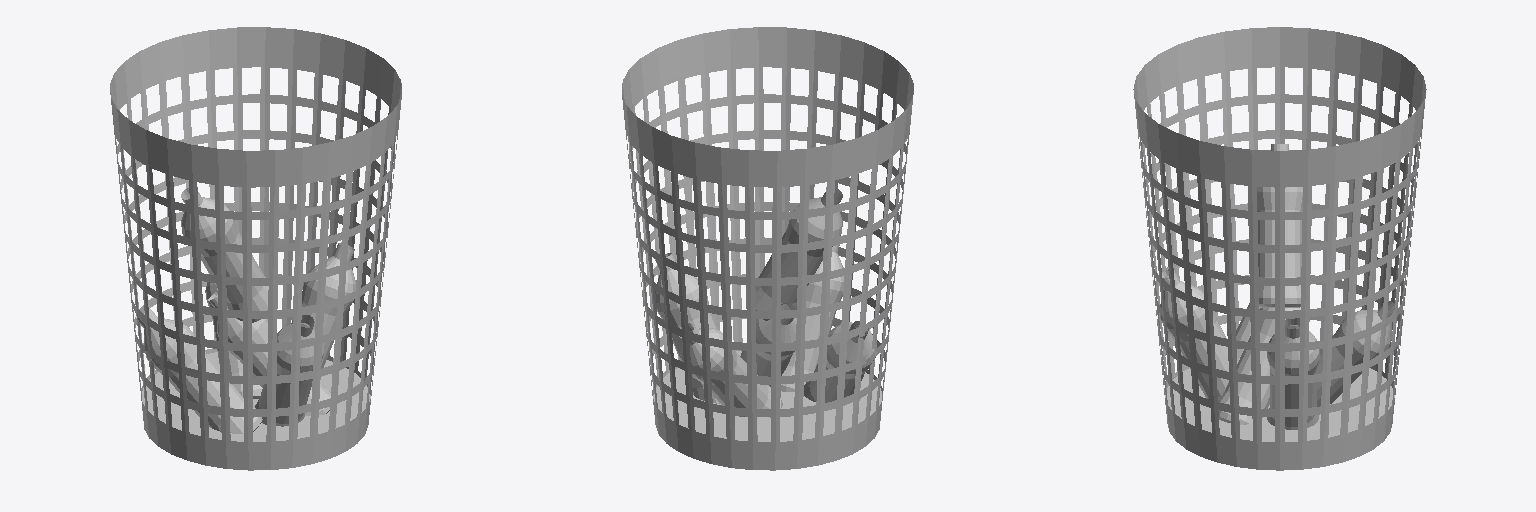
File: DustbinWithCan_000029.obj
3 renders of one model, left to right at view 1: azimuth 30°, elevation 25°; view 2: azimuth 150°, elevation 25°; view 3: azimuth 270°, elevation 25°, orthographic.
Visible parts, largest first — view 1: Cylinder, Plane.005, Plane.006, Plane.001, Plane.003, Plane.004, Plane.002; view 2: Cylinder, Plane.006, Plane.002, Plane.001, Plane.005, Plane.003, Plane.004; view 3: Cylinder, Plane.006, Plane.001, Plane.003, Plane.002, Plane.004.
Part boxes in pixels (x1,y1,x2,y2): Cylinder: (110,27,401,470); Plane.005: (135,307,262,433); Plane.006: (181,188,268,322); Plane.001: (255,315,323,426); Plane.003: (291,243,355,368); Plane.004: (208,291,330,415); Plane.002: (205,282,262,398); Cylinder: (622,27,913,470); Plane.006: (755,188,842,320); Plane.002: (679,323,782,416); Plane.001: (770,245,843,391); Plane.005: (804,321,876,402); Plane.003: (655,253,719,403); Plane.004: (740,303,796,385); Cylinder: (1133,27,1426,470); Plane.006: (1257,144,1302,307); Plane.001: (1160,269,1238,399); Plane.003: (1267,318,1319,429); Plane.002: (1317,301,1394,406); Plane.004: (1218,307,1300,424).
Size of the model in its own units: 2.6 by 3.27 by 2.6.